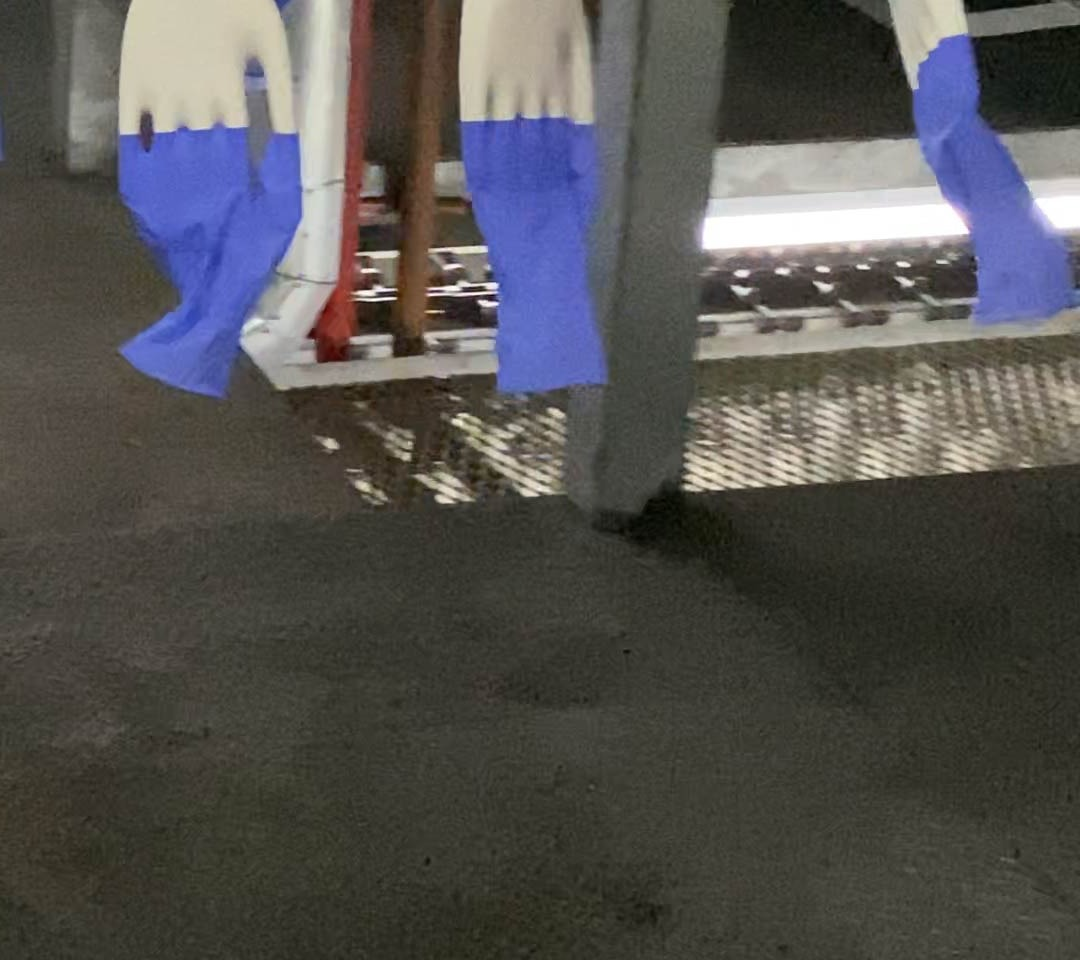glove: (112, 124, 304, 404), (900, 35, 1067, 329), (451, 115, 606, 392)
